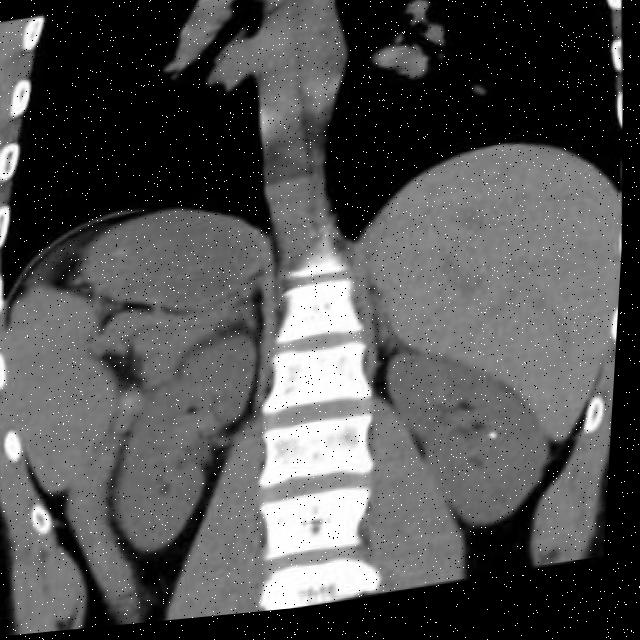Tas_Var: (490, 438, 506, 452)
